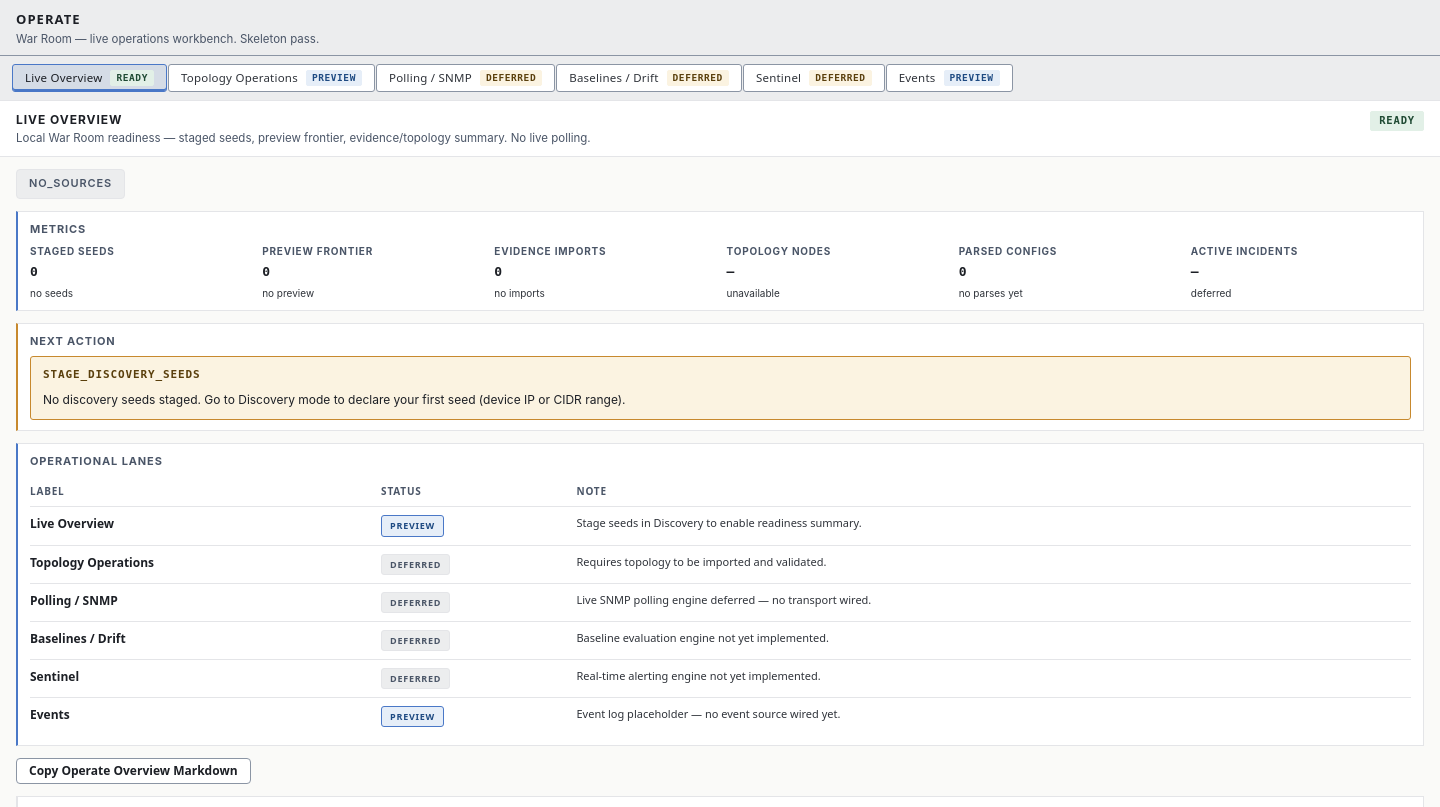
Test case: OperateMode workbench › sentinel shows 'Blast-radius framing'
Click the tab with test id "mwb-tool-sentinel".
click(814, 78)  # box left=743, top=64, right=885, bottom=92
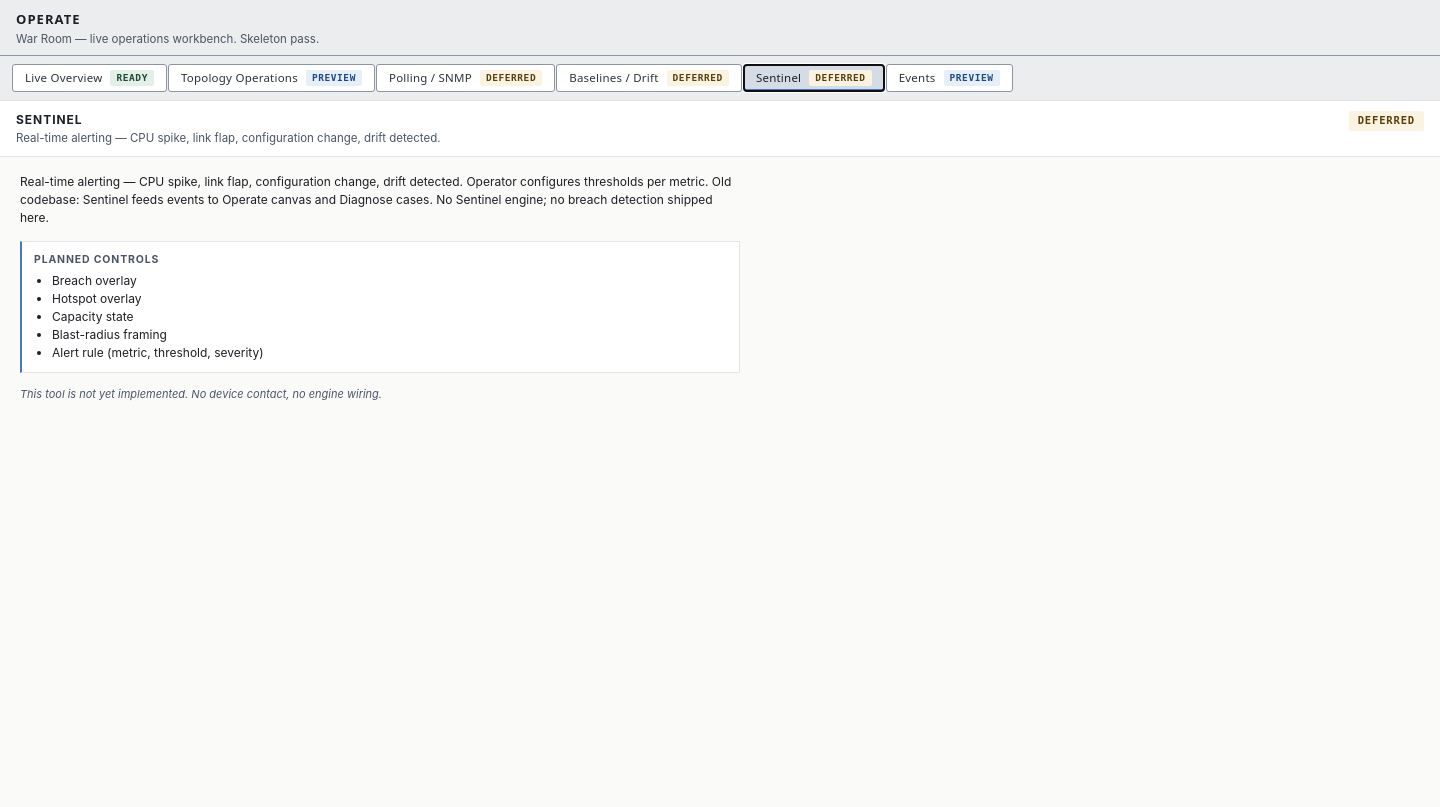
Now the element with test id "mode-workbench-body" shows "Blast-radius framing", box left=52, top=327, right=167, bottom=342
